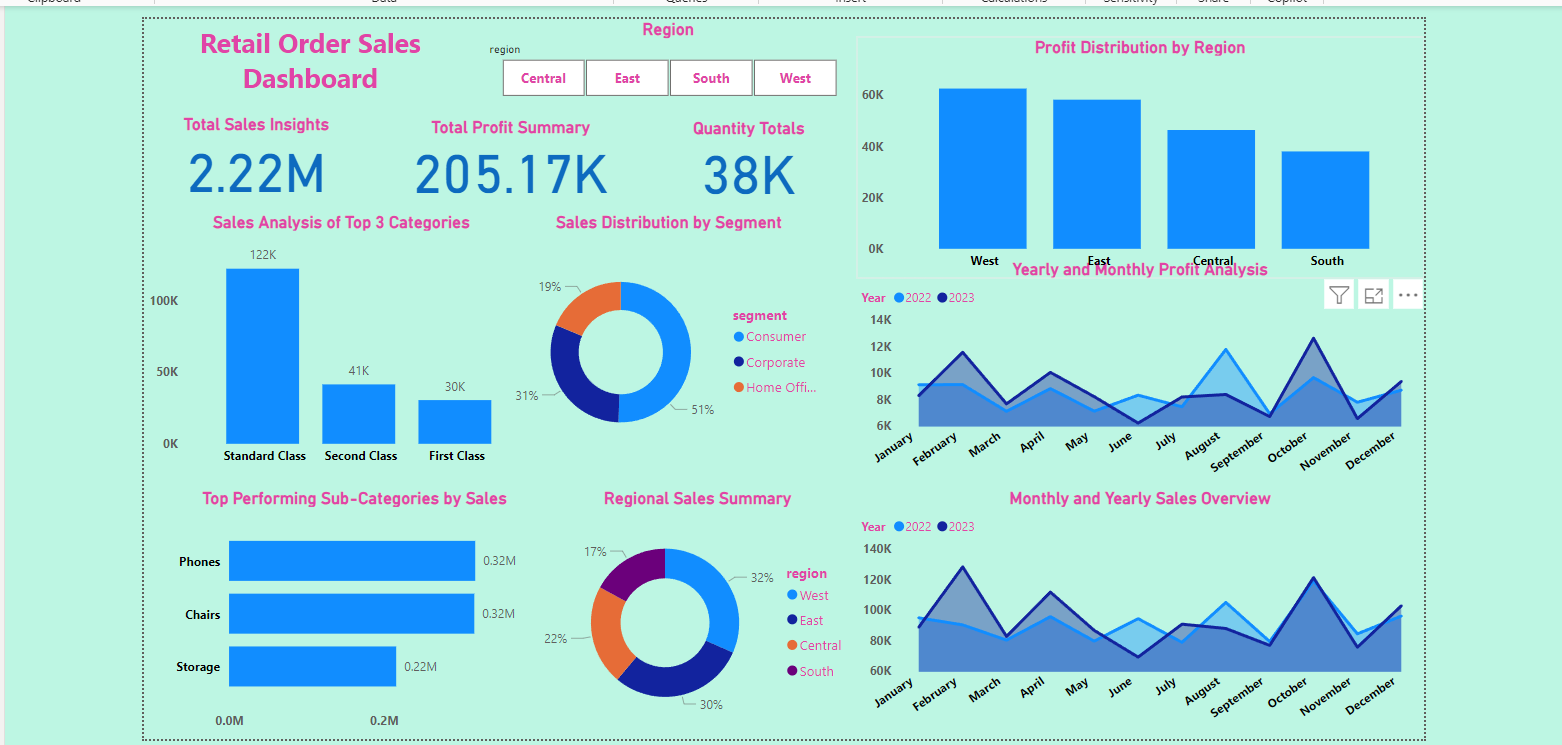

This screenshot's page, from the dashboard's own definition file:
{"tool":"powerbi","page":{"name":"Page 1","canvas":[1280,720],"ordinal":0},"visuals":[{"type":"clusteredColumnChart","title":"Sales Analysis of Top 3 Categories","fields":{"Category":["public orders.ship_mode"],"Y":["Sum(public orders.profit)"]},"box":[0,192.5,395,262.5],"z":0},{"type":"areaChart","title":"Yearly and Monthly Profit Analysis","fields":{"Category":["public orders.order_date.Variation.Date Hierarchy.Month"],"Series":["public orders.order_date.Variation.Date Hierarchy.Year"],"Y":["Sum(public orders.profit)"]},"box":[712.5,240,567.5,228.8],"z":1000},{"type":"clusteredBarChart","title":"Top Performing Sub-Categories by Sales","fields":{"Category":["public orders.sub_category"],"Y":["Sum(public orders.sale_price)"]},"box":[26.2,468.8,368.8,251.2],"z":2000},{"type":"areaChart","title":"Monthly and Yearly Sales Overview","fields":{"Y":["Sum(public orders.sale_price)"],"Category":["public orders.order_date.Variation.Date Hierarchy.Month"],"Series":["public orders.order_date.Variation.Date Hierarchy.Year"]},"box":[712.5,468.8,567.5,251.2],"z":3000},{"type":"slicer","title":"Region","fields":{"Values":["public orders.region"]},"box":[332.5,0,383.8,83.8],"z":4000},{"type":"clusteredColumnChart","title":"Profit Distribution by Region","fields":{"Category":["public orders.region"],"Y":["Sum(public orders.profit)"]},"box":[712.5,17.5,567.5,242.5],"z":5000},{"type":"donutChart","title":"Sales Distribution by Segment","fields":{"Category":["public orders.segment"],"Y":["Sum(public orders.sale_price)"]},"box":[360,192.5,330,262.5],"z":6000},{"type":"donutChart","title":"Regional Sales Summary","fields":{"Category":["public orders.region"],"Y":["Sum(public orders.sale_price)"]},"box":[395,468.8,317.5,251.2],"z":7000},{"type":"card","title":"Total Sales Insights","fields":{"Values":["Sum(public orders.sale_price)"]},"box":[0,95,225,85],"z":8000},{"type":"card","title":"Total Profit Summary","fields":{"Values":["Sum(public orders.profit)"]},"box":[225,97.5,283.8,82.5],"z":8001},{"type":"card","title":"Quantity Totals","fields":{"Values":["Sum(public orders.quantity)"]},"box":[497.5,98.8,215,82.5],"z":8002},{"type":"textbox","box":[0,0,332.5,83.8],"z":8003}]}

Visuals, with their boxes on the page's 1280x720 design canvas (x1, y1, x2, y2). These are canvas units, not pixel positions in the 1562x745 screenshot, which may show the page scaled, cropped or inside an application window:
"Sales Analysis of Top 3 Categories" clusteredColumnChart: {"left": 0, "top": 192, "right": 395, "bottom": 455}
"Yearly and Monthly Profit Analysis" areaChart: {"left": 712, "top": 240, "right": 1280, "bottom": 469}
"Top Performing Sub-Categories by Sales" clusteredBarChart: {"left": 26, "top": 469, "right": 395, "bottom": 720}
"Monthly and Yearly Sales Overview" areaChart: {"left": 712, "top": 469, "right": 1280, "bottom": 720}
"Region" slicer: {"left": 332, "top": 0, "right": 716, "bottom": 84}
"Profit Distribution by Region" clusteredColumnChart: {"left": 712, "top": 18, "right": 1280, "bottom": 260}
"Sales Distribution by Segment" donutChart: {"left": 360, "top": 192, "right": 690, "bottom": 455}
"Regional Sales Summary" donutChart: {"left": 395, "top": 469, "right": 712, "bottom": 720}
"Total Sales Insights" card: {"left": 0, "top": 95, "right": 225, "bottom": 180}
"Total Profit Summary" card: {"left": 225, "top": 98, "right": 509, "bottom": 180}
"Quantity Totals" card: {"left": 498, "top": 99, "right": 712, "bottom": 181}
textbox: {"left": 0, "top": 0, "right": 332, "bottom": 84}
